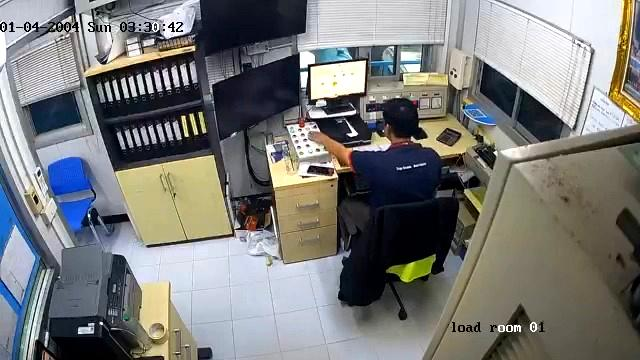Head: (378, 94, 419, 144)
People: (312, 93, 444, 201)
Phone: (306, 165, 336, 176)
